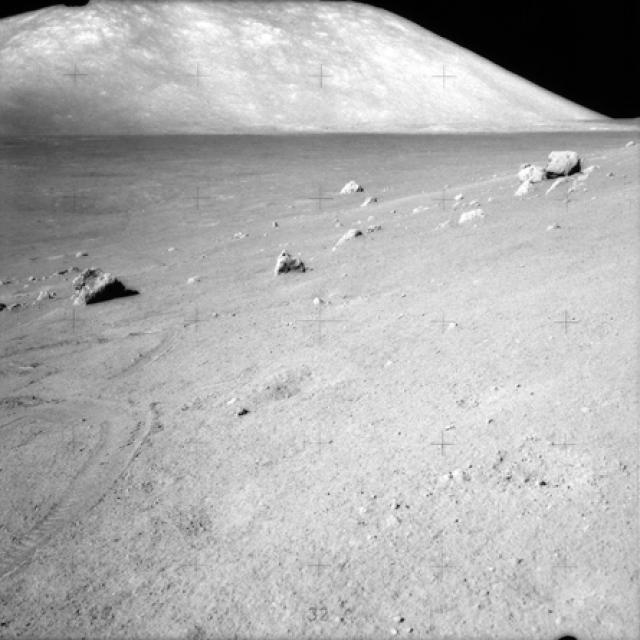crater: (245, 356, 340, 402)
rock: (75, 273, 136, 305), (262, 248, 316, 282), (543, 140, 588, 176), (331, 222, 368, 248), (454, 200, 492, 223), (339, 176, 367, 194), (513, 162, 544, 178)
